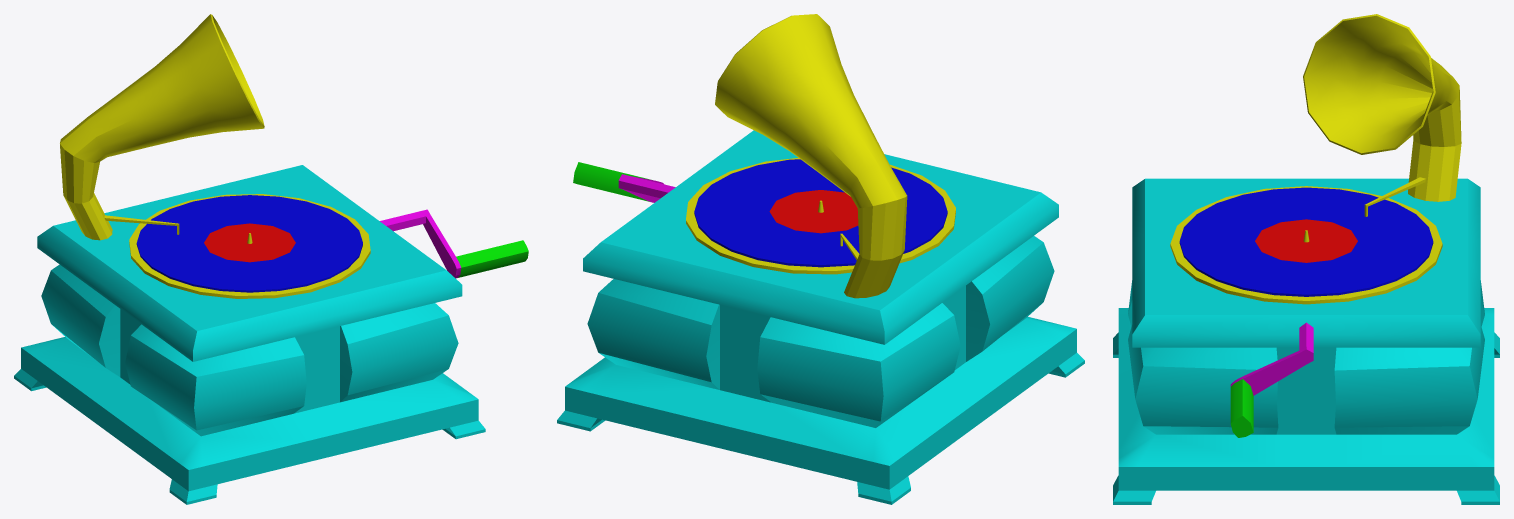
File: Record_player.fbx
The picture shows the model from 3 angles, left to right: view 1: azimuth 30°, elevation 25°; view 2: azimuth 150°, elevation 25°; view 3: azimuth 270°, elevation 25°; orthographic projection. The views are drawn at different scales.
Parts seen in each view (by area): view 1: pCylinder2, pDisc1, pCylinder1; view 2: pCylinder2, pDisc1, pCylinder1; view 3: pCylinder2, pDisc1, pCylinder1.
Part boxes in pixels (x1,y1,x2,y2): pCylinder2: (14,14,485,504); pDisc1: (136,195,362,292); pCylinder1: (380,209,528,278); pCylinder2: (557,14,1084,504); pDisc1: (694,159,947,267); pCylinder1: (573,162,675,202); pCylinder2: (1113,14,1499,504); pDisc1: (1179,187,1433,296); pCylinder1: (1230,322,1313,437).
Bounding box in the file's own units: 5.42 × 4.75 × 4.11.
